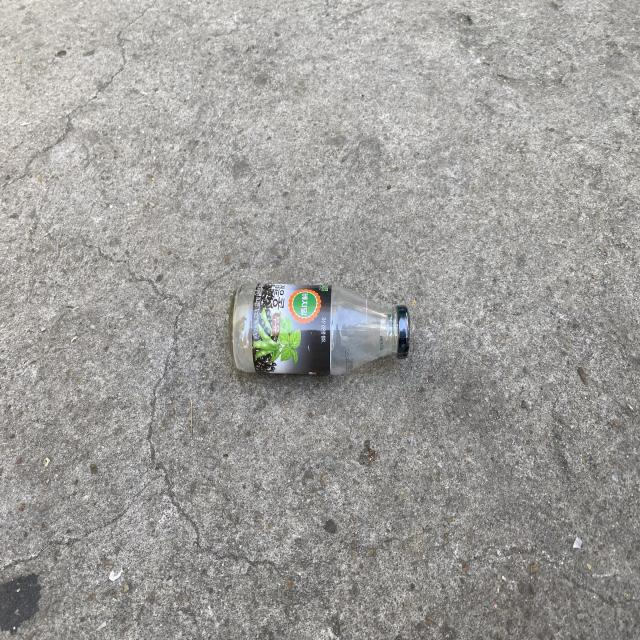glass: (230, 283, 410, 375)
